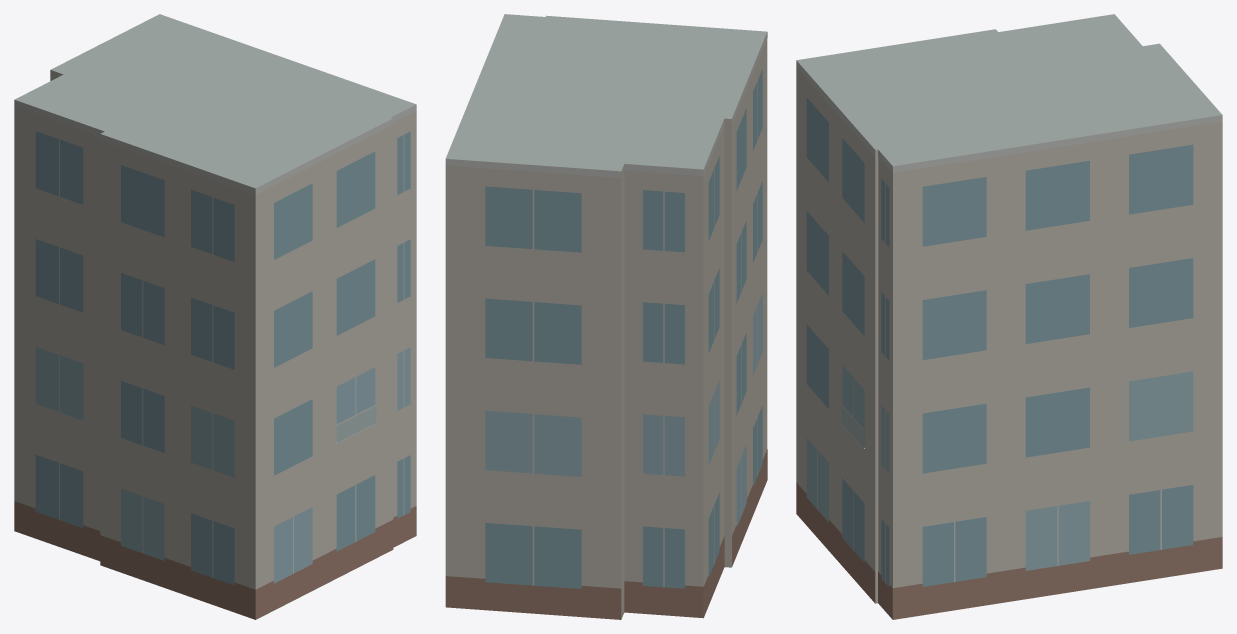
File: survey-upis-32743125.glb
3 views of the same model, side by side, from view 1: azimuth 30°, elevation 25°; view 2: azimuth 150°, elevation 25°; view 3: azimuth 270°, elevation 25° (orthographic). The views are drawn at different scales.
Visible parts, largest first — view 1: survey-upis-32743125.tmp; view 2: survey-upis-32743125.tmp; view 3: survey-upis-32743125.tmp.
Part boxes in pixels (box(x1,y1,x2,y2)): survey-upis-32743125.tmp: box(14, 14, 416, 619); survey-upis-32743125.tmp: box(445, 14, 767, 619); survey-upis-32743125.tmp: box(796, 14, 1222, 619).
Bounding box in the file's own units: 11.98 × 16.62 × 14.17.
